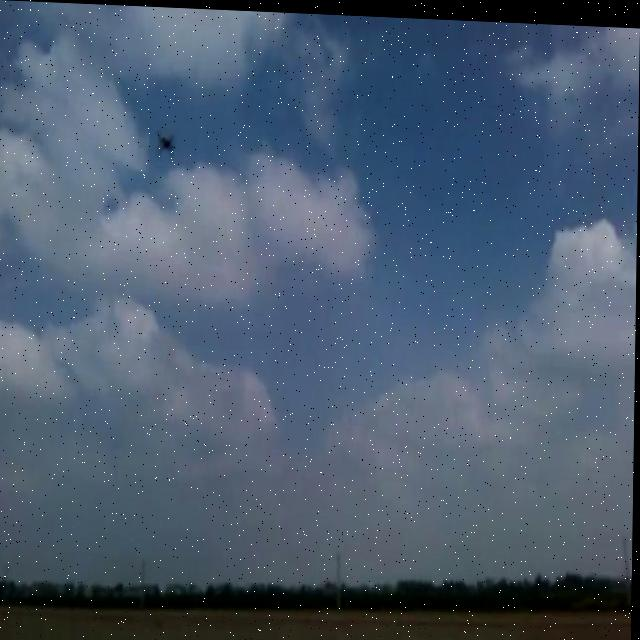drone: (152, 126, 177, 155)
